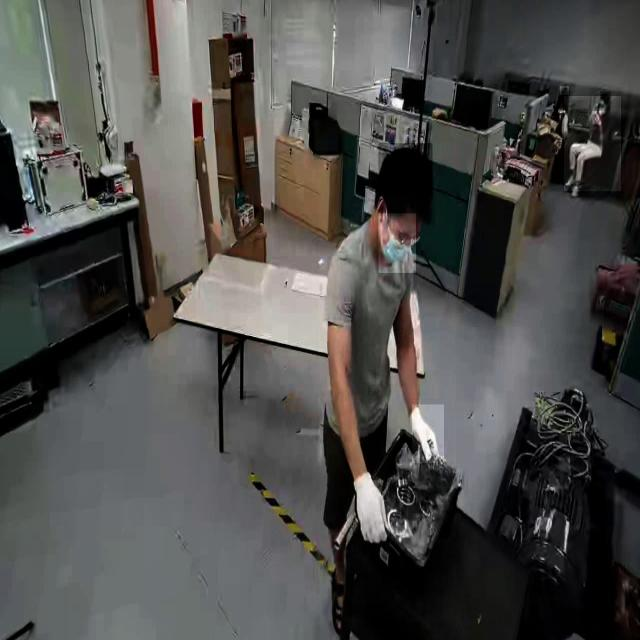face_mask: (378, 213, 416, 273), (598, 97, 610, 123)
hand_glove: (351, 471, 394, 552), (412, 404, 444, 464)
hand_noglove: (592, 111, 602, 125)
head_nohelmet: (379, 143, 433, 196), (560, 86, 570, 96), (600, 92, 612, 100)
person: (318, 125, 456, 623), (564, 96, 622, 192)
